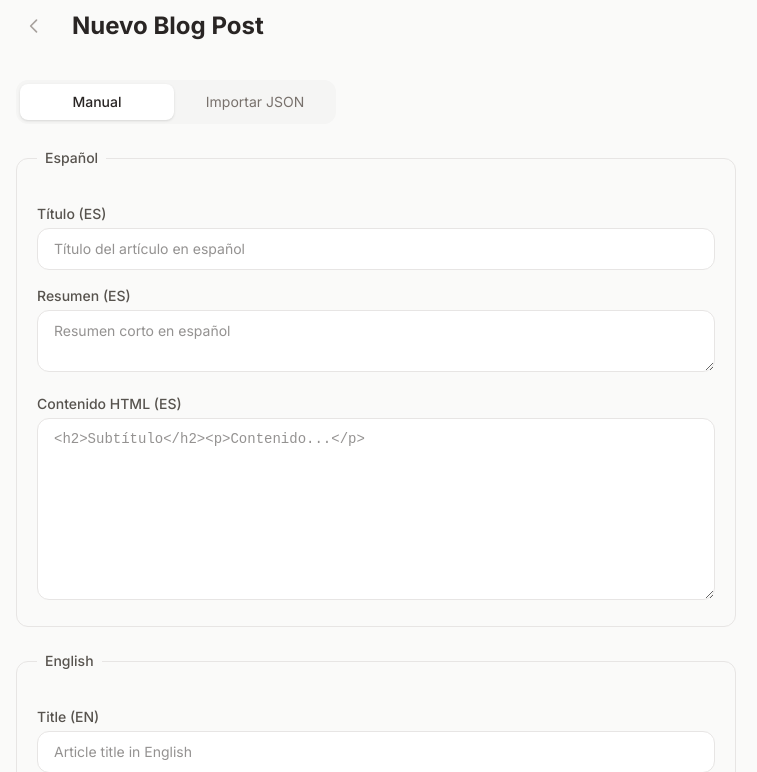
AdminBlogCreatePage › shows JSON parse error when invalid JSON is submitted
Click the button "Importar JSON". click: {"x": 255, "y": 102}
box: [178, 84, 332, 120]
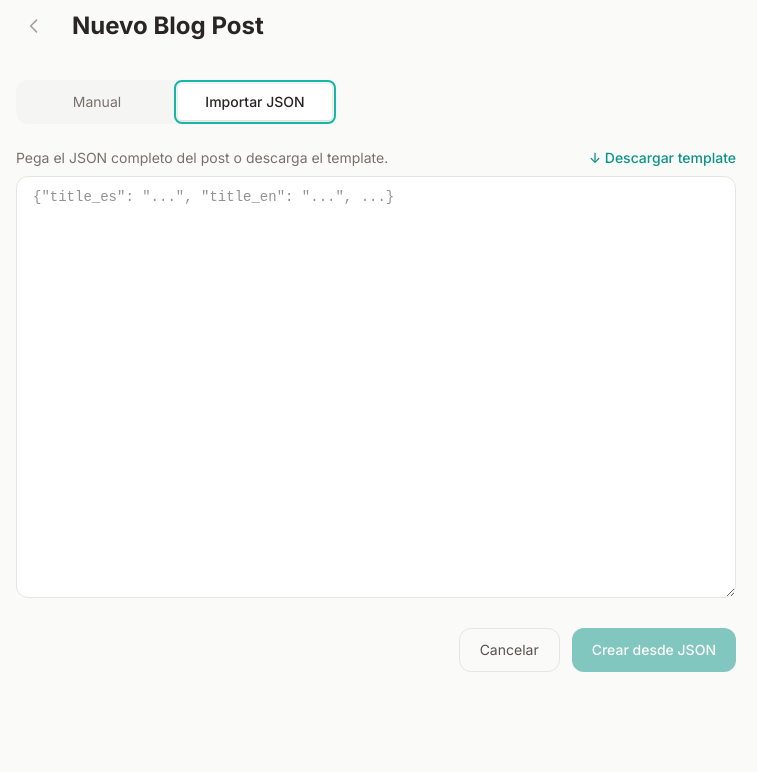
Type "not: valid: json: at: all" into the text box with placeholder "{\"title_es\": \"...\", \"title_en\": \"...\", ...}". click: {"x": 376, "y": 387}
box: [16, 176, 736, 598]
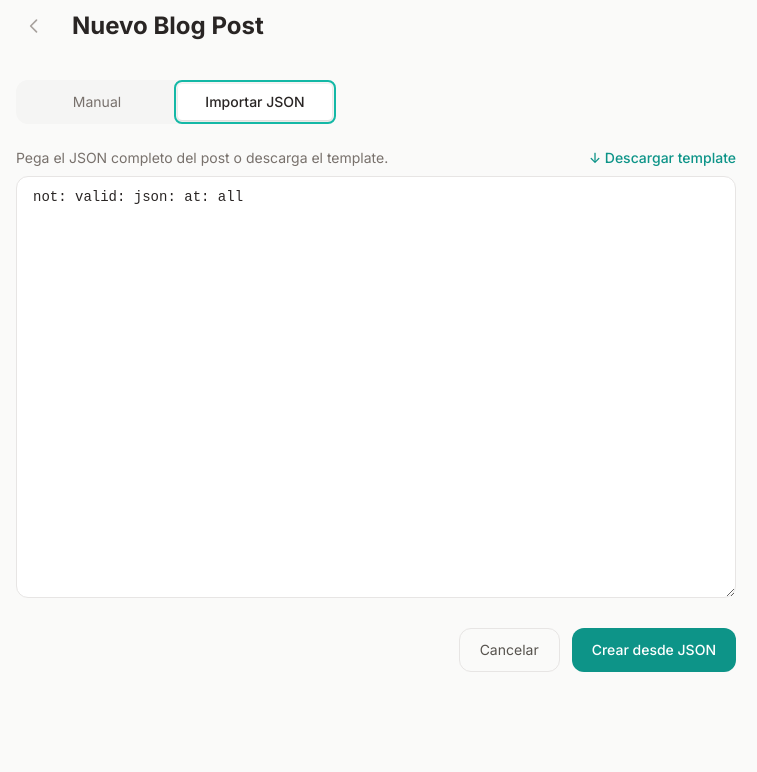
Click the button "Crear desde JSON". click: {"x": 654, "y": 650}
box: [572, 628, 736, 672]
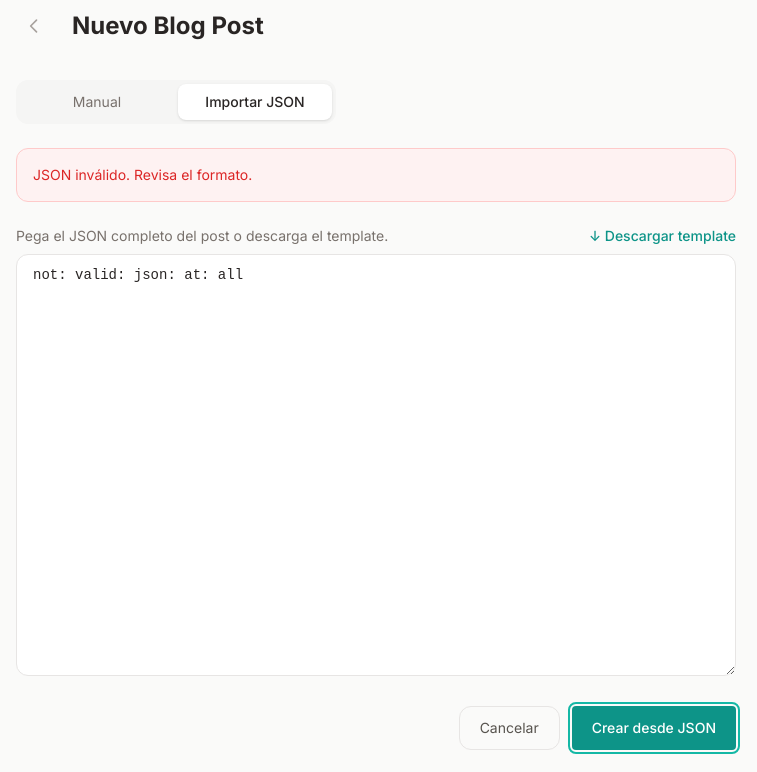
Expected: the text "JSON inválido. Revisa el formato." is shown, [16, 148, 736, 202]
